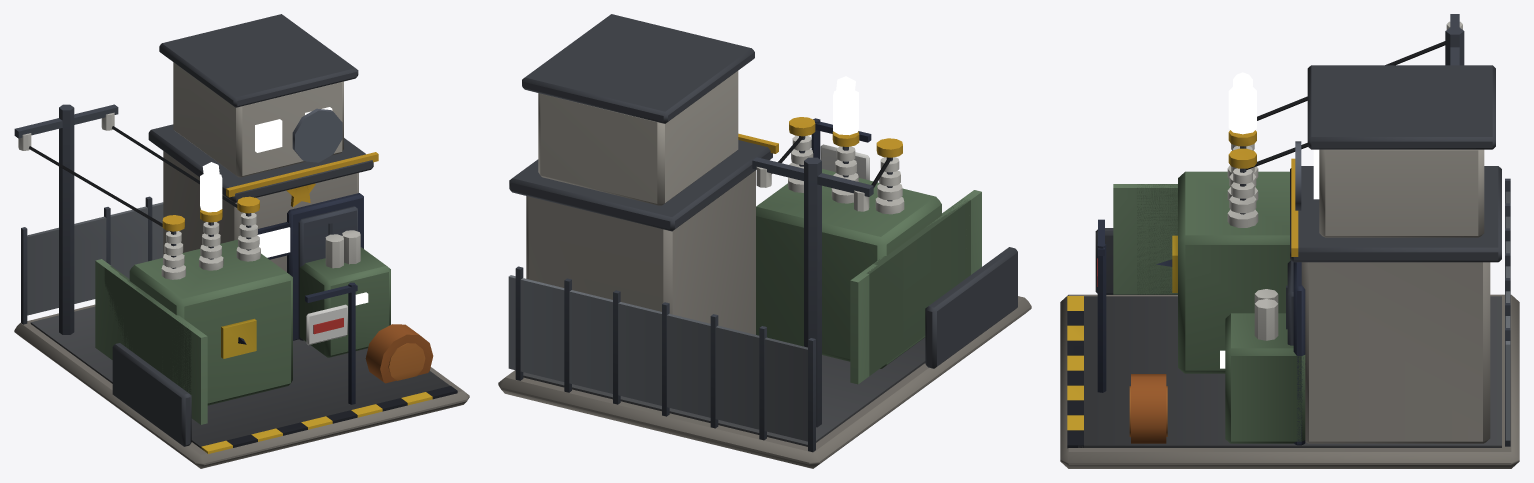
File: o_special_stadt.glb
3 views of the same model, side by side, from view 1: azimuth 30°, elevation 25°; view 2: azimuth 150°, elevation 25°; view 3: azimuth 270°, elevation 25° (orthographic). The views are drawn at different scales.
Parts seen in each view (by area): view 1: body, lv3_upper, lv4_armor, lv2_annex, lv5_gold, spin_fan, sway_sign, pulse_coil_glow, lv3_win_glow, win_glow; view 2: body, lv4_armor, lv3_upper, lv5_gold, pulse_coil_glow, sway_sign; view 3: body, lv3_upper, lv2_annex, lv4_armor, pulse_coil_glow, lv5_gold, spin_fan.
Boxes of the visible parts, box(x1,y1,x2,y2) form: body: box(14, 104, 469, 468); lv3_upper: box(159, 14, 358, 177); lv4_armor: box(21, 196, 191, 446); lv2_annex: box(299, 230, 390, 357); lv5_gold: box(162, 152, 378, 231); spin_fan: box(292, 108, 342, 162); sway_sign: box(306, 304, 347, 345); pulse_coil_glow: box(200, 162, 222, 212); lv3_win_glow: box(255, 107, 332, 152); win_glow: box(257, 227, 290, 257); body: box(498, 118, 1031, 468); lv4_armor: box(508, 247, 1017, 452); lv3_upper: box(522, 14, 754, 205); lv5_gold: box(738, 117, 902, 157); pulse_coil_glow: box(833, 76, 858, 135); sway_sign: box(820, 144, 869, 180); body: box(1060, 14, 1519, 468); lv3_upper: box(1307, 65, 1495, 237); lv2_annex: box(1225, 289, 1305, 443); lv4_armor: box(1095, 178, 1510, 446); pulse_coil_glow: box(1228, 72, 1256, 134); lv5_gold: box(1228, 130, 1298, 256); spin_fan: box(1295, 141, 1301, 210).
Size of the model in its own units: 3.55 by 3.06 by 3.9.
